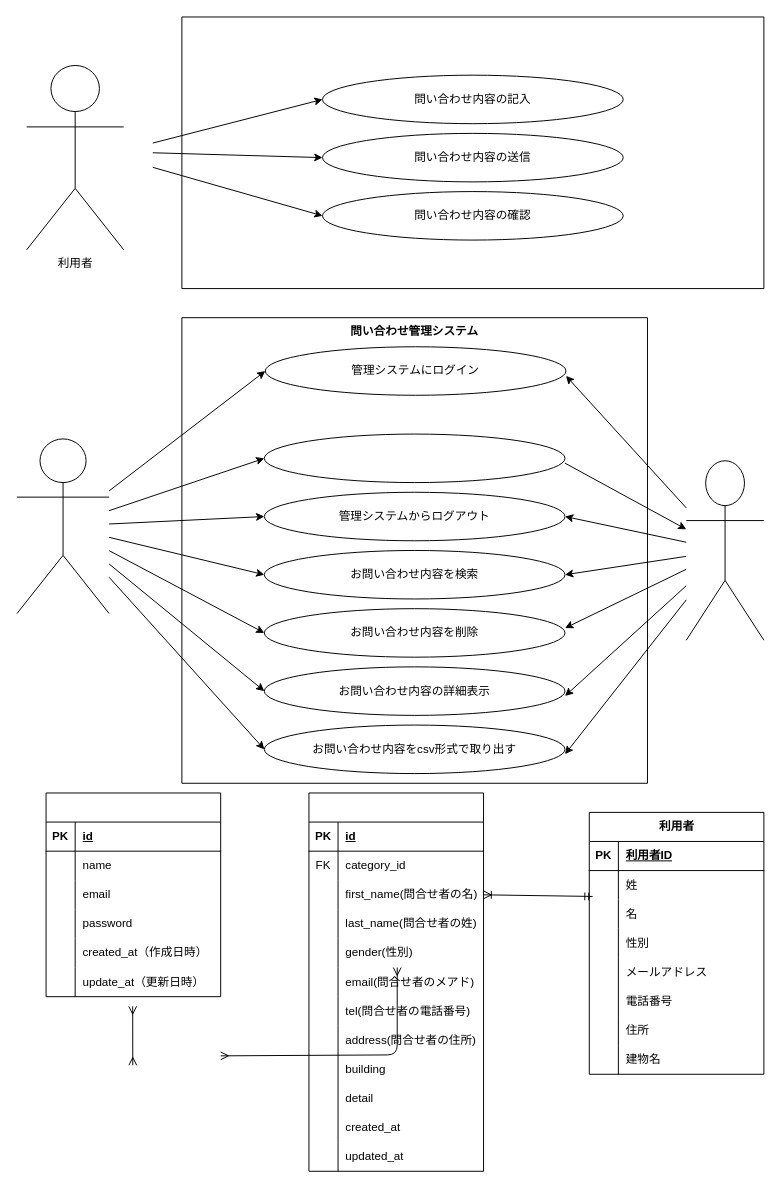
The diagram is 781 pixels wide and 1188 high, and some of its shapes have lost their labels. The shapes that lost their labels are listed below. From the top down, each one's box as (x1, y1, x2, y2) in pixels, then its label:
(181, 16, 764, 289): 問い合わせ送信システム
(263, 433, 565, 483): 新規ユーザーの作成・登録
(16, 438, 109, 614): 管理者
(685, 460, 764, 640): 新規管理者
(45, 792, 221, 997): users
(308, 792, 484, 1171): contacts
